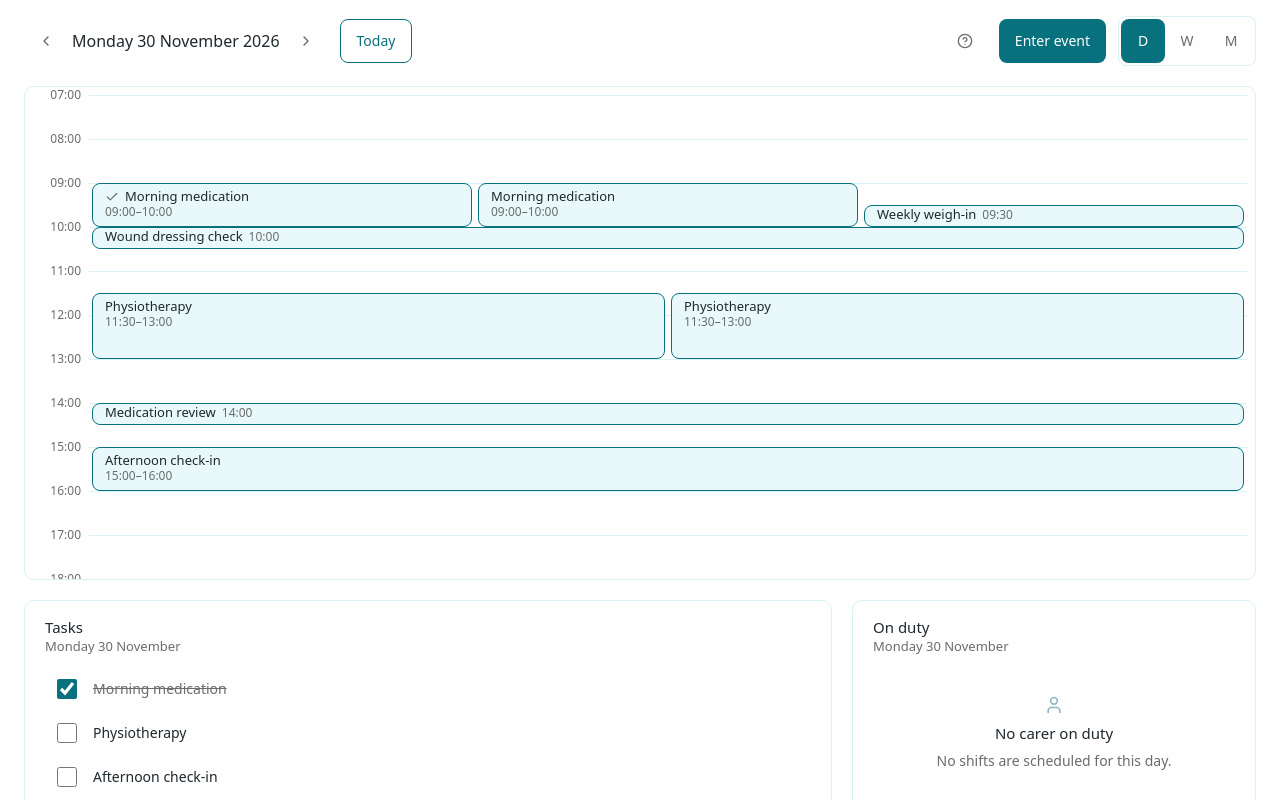
[FAM-UI-02][AC-08] a tick shows on the grids, with who ticked it (CHG-016) › [FAM-UI-02][AC-08] the day view shows 'Done · <signed-in name>' for a ticked task
The image size is (1280, 800).
(page scrolled)
Click the checkbox labelled "Physiotherapy" at [67, 733], box [57, 723, 77, 743]
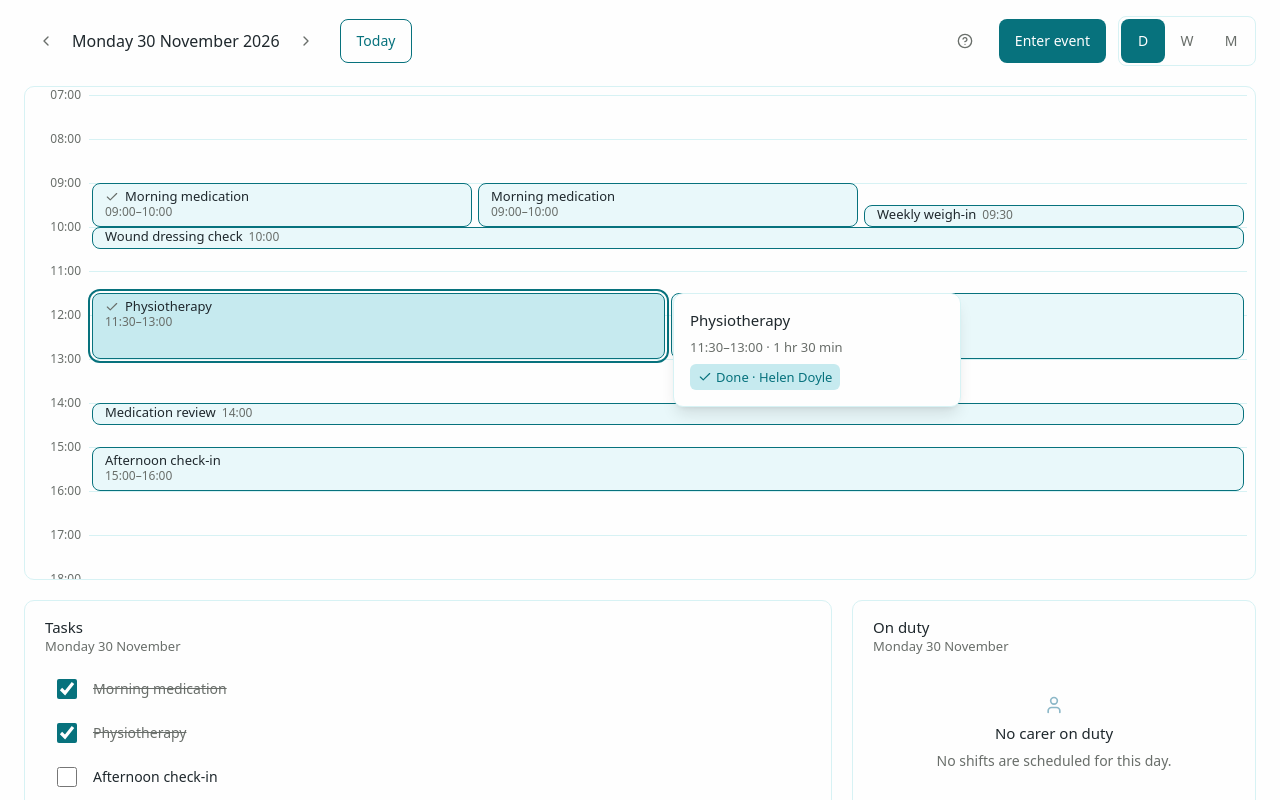
expect the tooltip shows "Done · Helen Doyle": met, box [673, 293, 961, 407]
